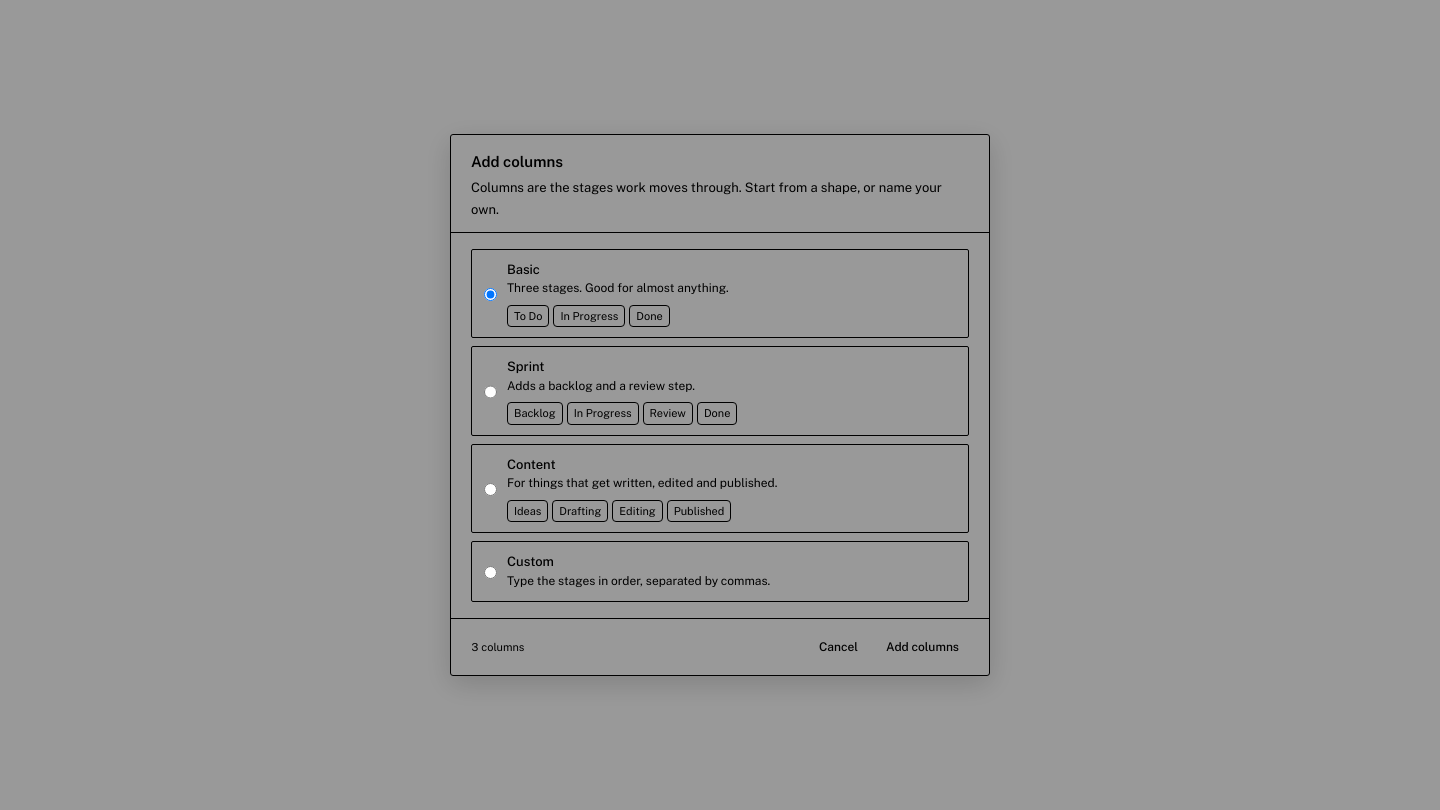
Test: SeedColumnsDialog › shows the parse back, so a trailing comma is not a silent surprise
The image size is (1440, 810).
Click the radio button labelled "Custom Type the stages in order, separated by commas." at (490, 573), box [484, 554, 497, 591]
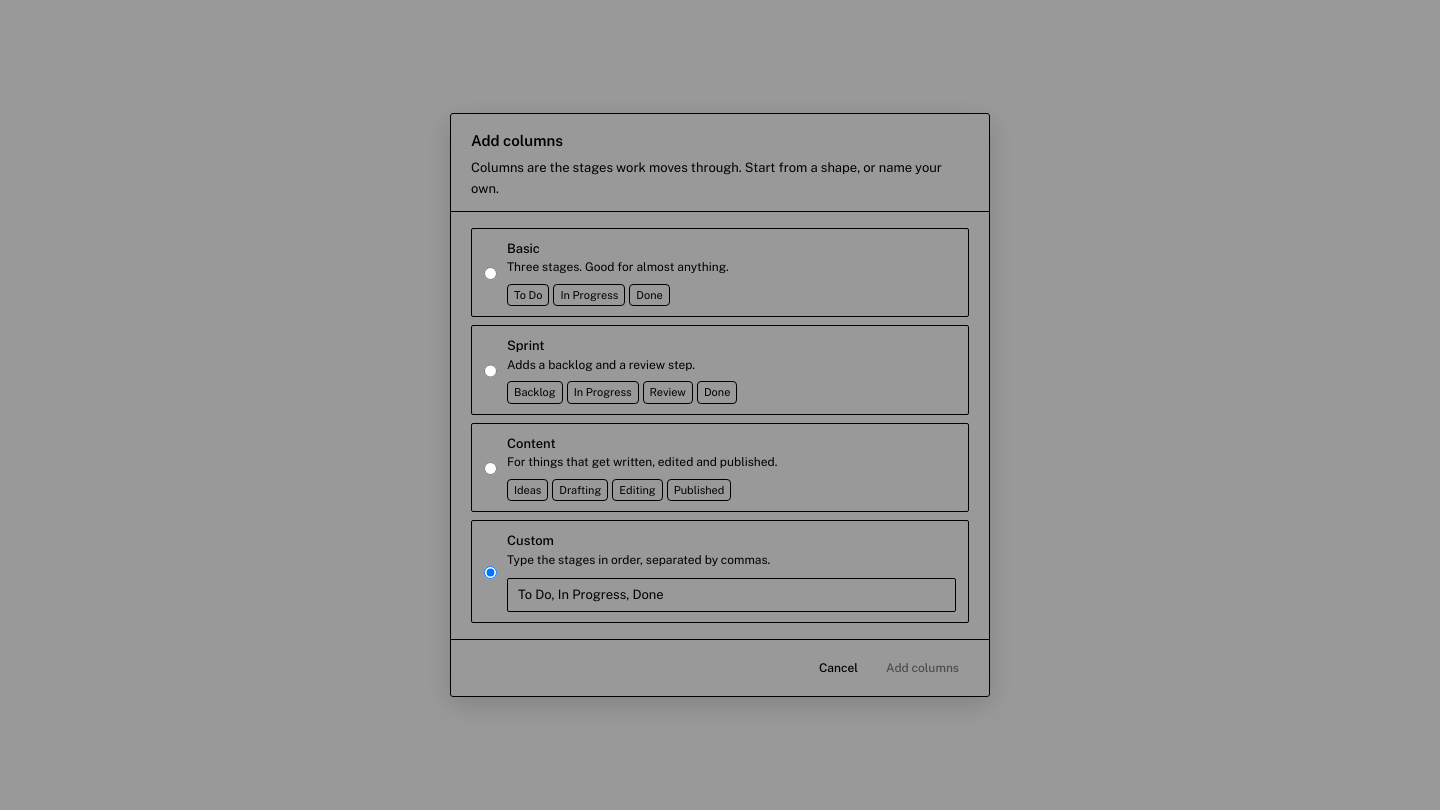
Type "Triage, Shipped," into the field named "Column names, separated by commas" at (732, 595), box [507, 578, 956, 612]
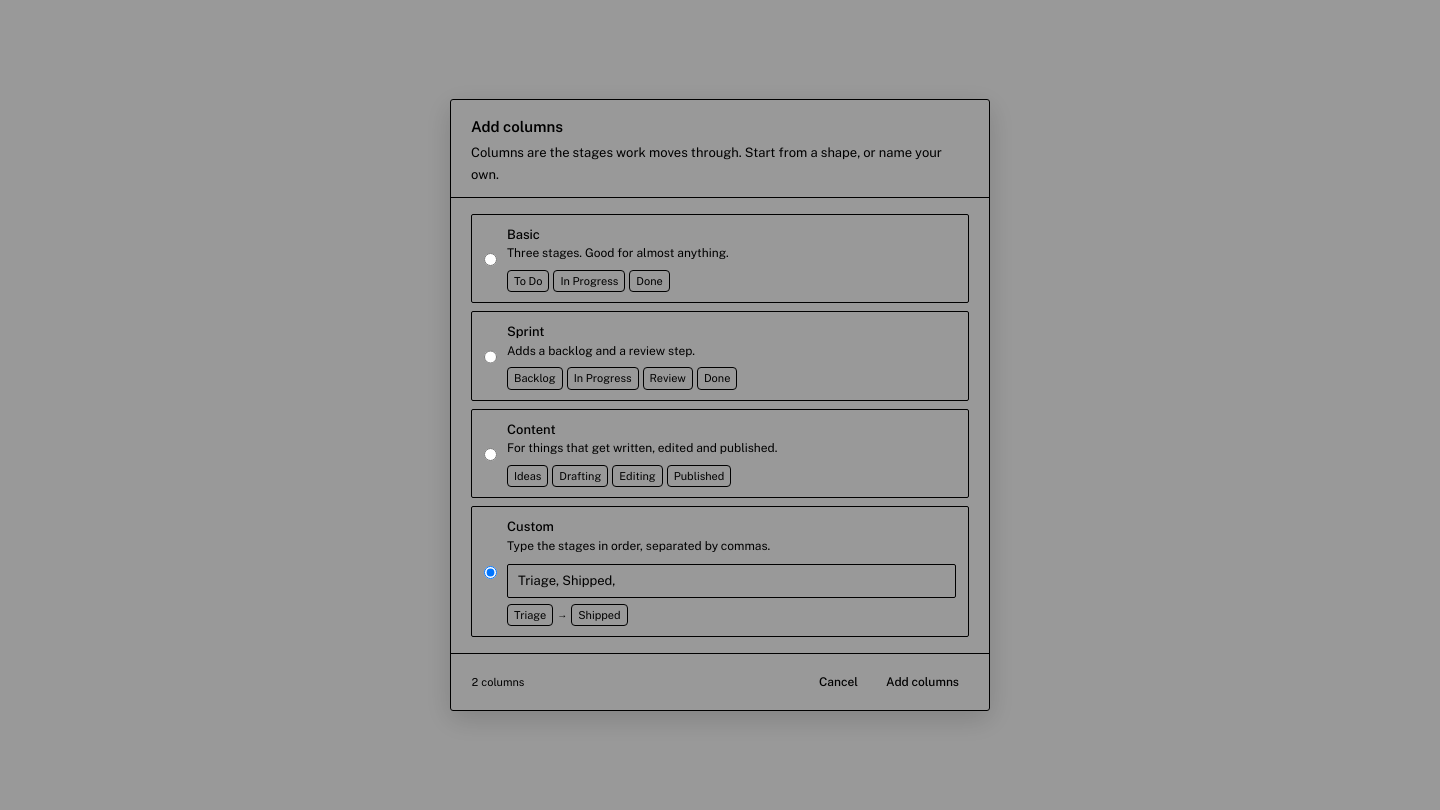
Result: the text "Triage" is shown at [507, 604, 553, 626]
Result: the text "Shipped" is shown at [571, 604, 628, 626]
Result: the text "2 columns" is shown at [471, 676, 524, 688]
